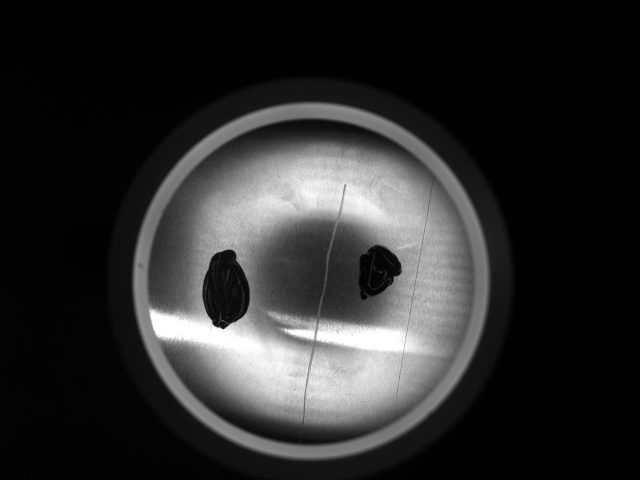ca_shang: (298, 180, 349, 426), (395, 176, 435, 408)
zang_wu: (200, 247, 255, 332), (357, 242, 405, 302)
